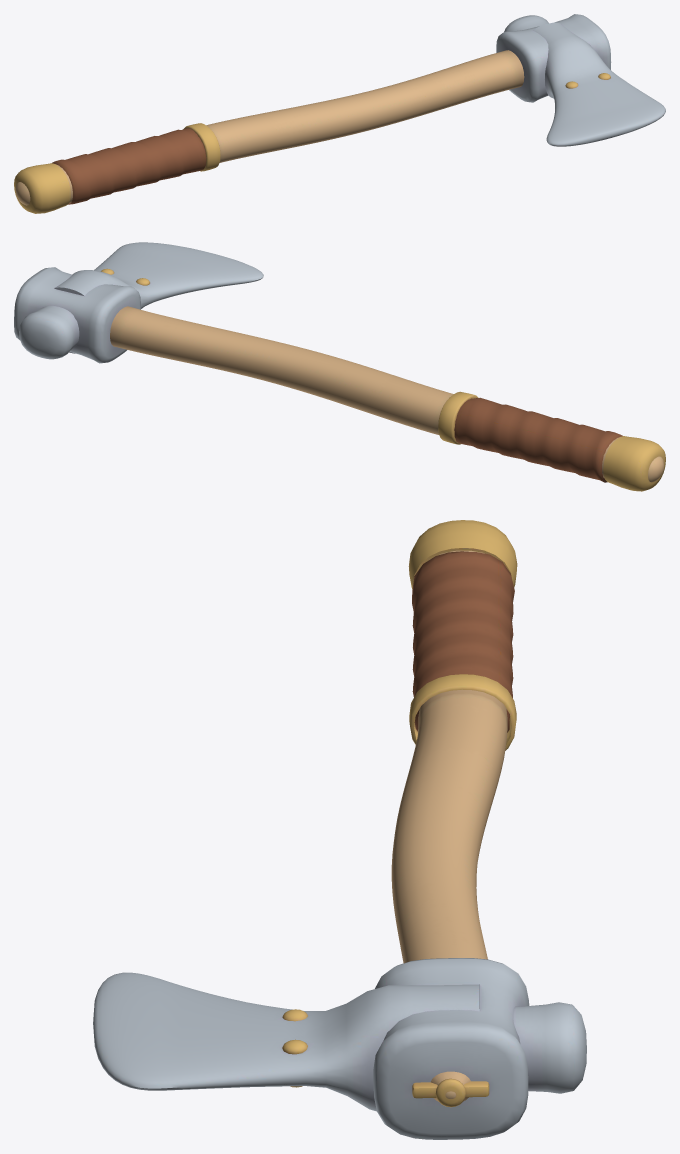
File: hand-axe.glb
The picture shows the model from 3 angles, top to bottom: view 1: azimuth 30°, elevation 25°; view 2: azimuth 150°, elevation 25°; view 3: azimuth 270°, elevation 25°; orthographic projection. The views are drawn at different scales.
Visible parts, largest first — view 1: hand-axe_body; view 2: hand-axe_body; view 3: hand-axe_body.
Boxes of the visible parts, box(x1,y1,x2,y2) form: hand-axe_body: box(14, 14, 665, 213); hand-axe_body: box(14, 242, 665, 491); hand-axe_body: box(93, 520, 586, 1139).
Size of the model in its own units: 0.4502 by 0.0431 by 0.1656.
1 material, 1 textured.
